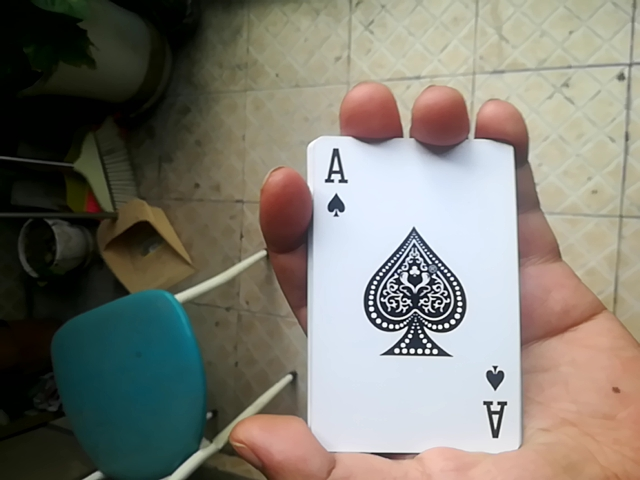ht a: (295, 134, 526, 459)
